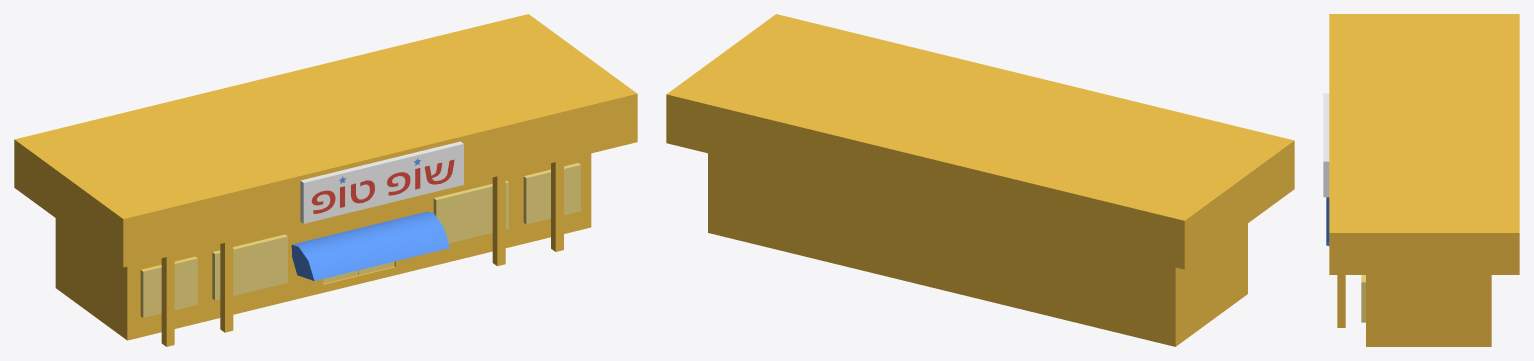
File: super (3).fbx
3 renders of one model, left to right at view 1: azimuth 30°, elevation 25°; view 2: azimuth 150°, elevation 25°; view 3: azimuth 270°, elevation 25°, orthographic. The views are drawn at different scales.
Visible parts, largest first — view 1: super, window, sign, roof; view 2: super; view 3: super, sign, window, roof.
Part boxes in pixels (bbox=[...]): super: bbox=[14, 14, 637, 346]; window: bbox=[140, 163, 580, 317]; sign: bbox=[300, 141, 463, 223]; roof: bbox=[291, 211, 449, 280]; super: bbox=[666, 14, 1294, 346]; super: bbox=[1329, 14, 1519, 346]; sign: bbox=[1323, 93, 1329, 197]; window: bbox=[1361, 275, 1365, 322]; roof: bbox=[1326, 197, 1329, 245].
Bounding box in the file's own units: 7581 × 2014 × 2869.
2 materials, 2 textured.
